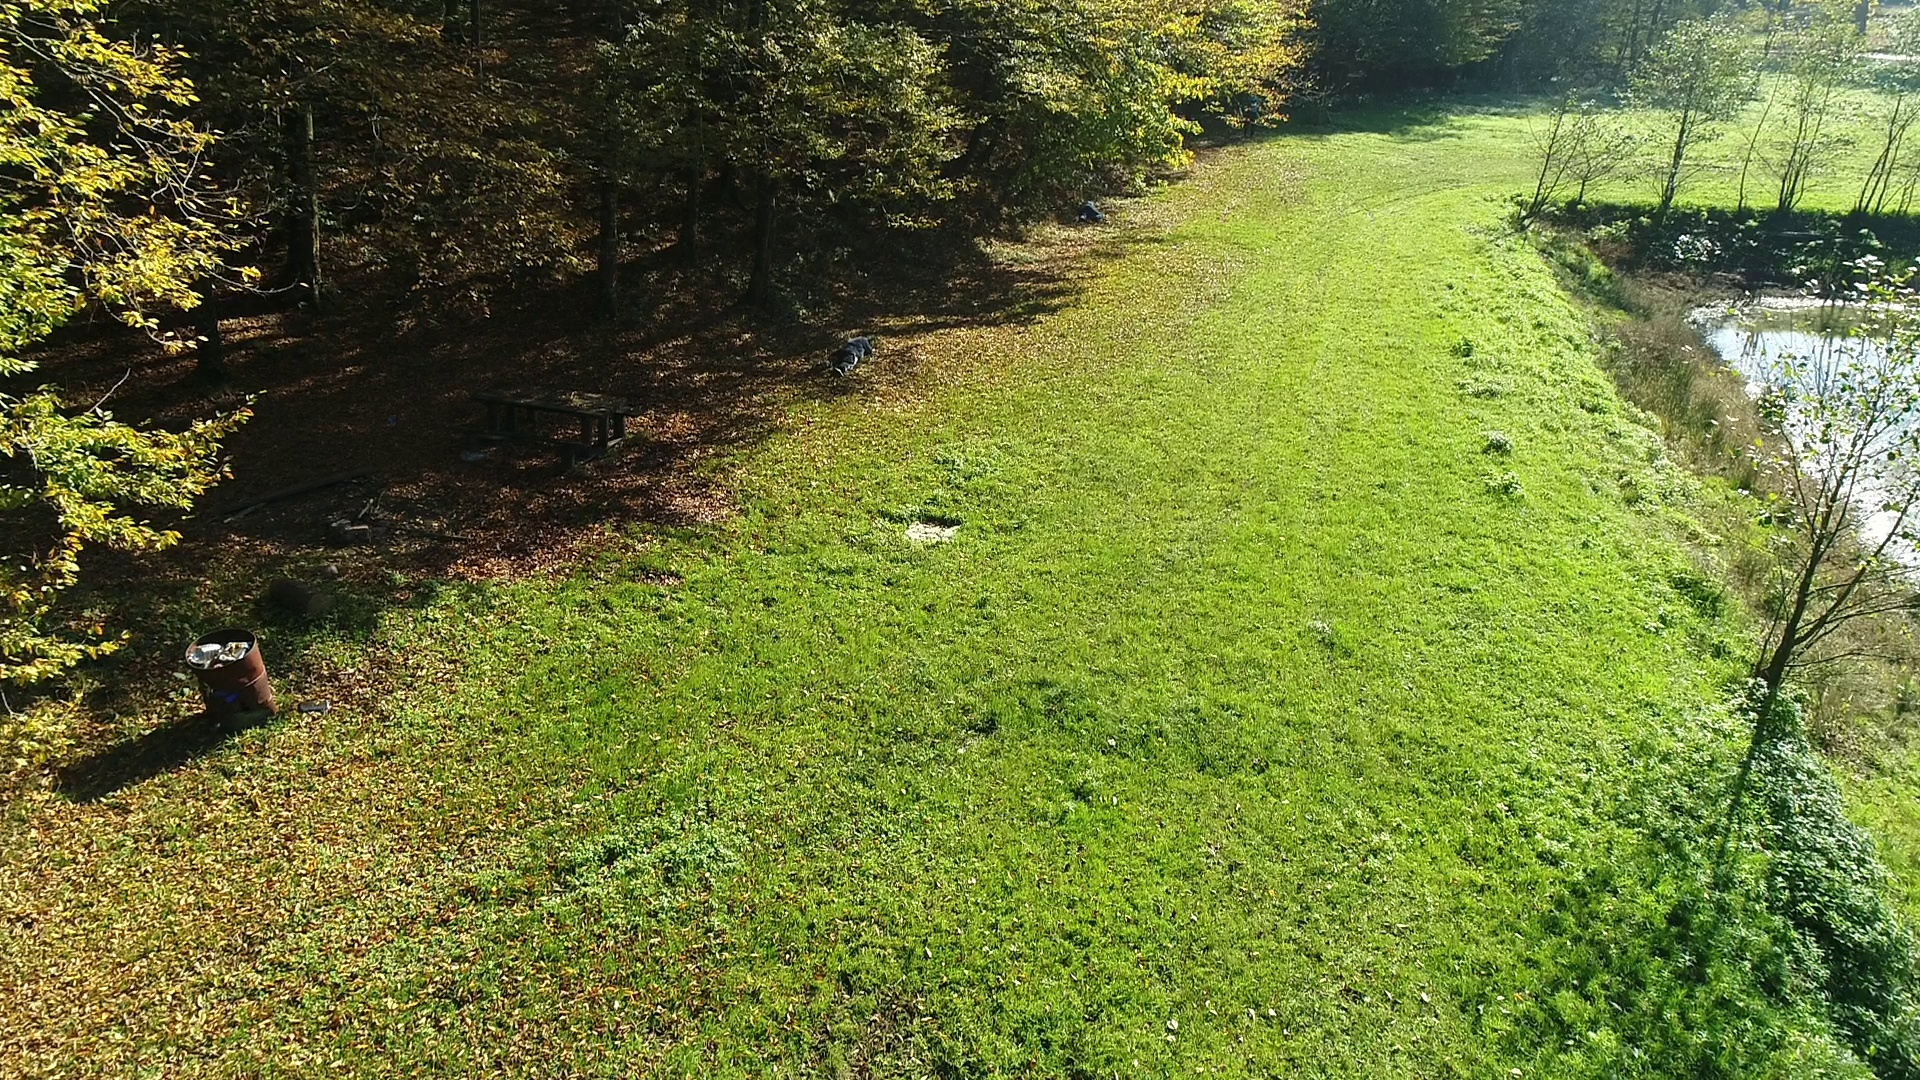person: (818, 335, 874, 376), (1242, 93, 1263, 137), (1076, 200, 1105, 223)
